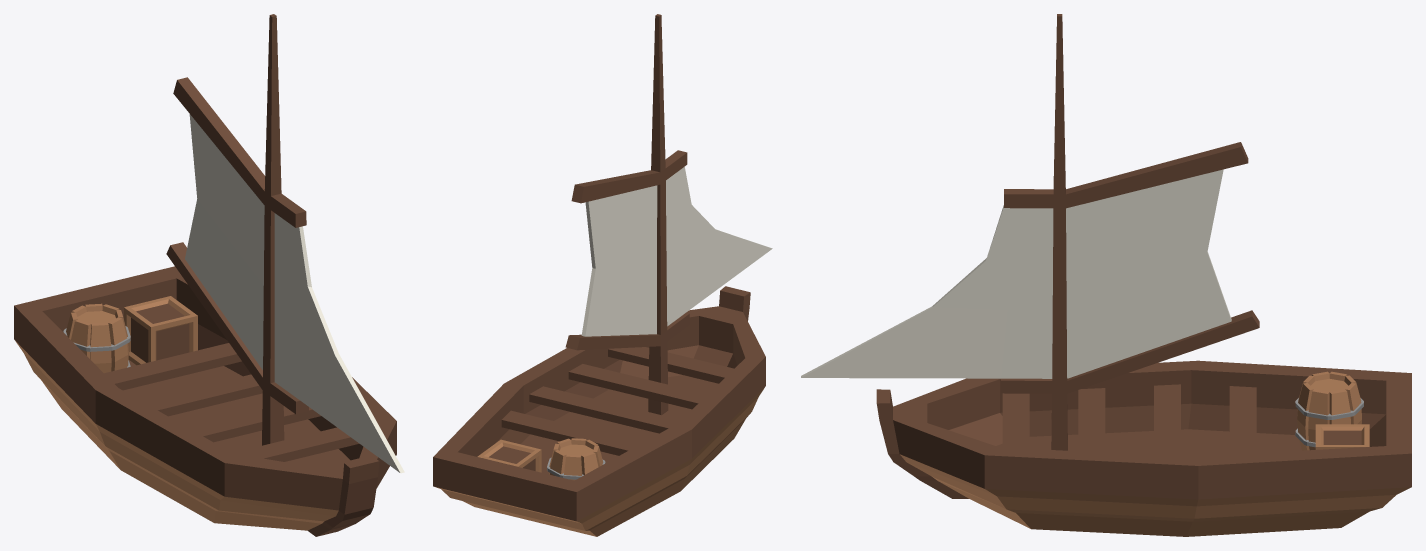
Rendered from cairo-felucca.glb.
3 views of the same model, side by side, from view 1: azimuth 30°, elevation 25°; view 2: azimuth 150°, elevation 25°; view 3: azimuth 270°, elevation 25° (orthographic). The views are drawn at different scales.
Visible parts, largest first — view 1: Boat, Sail; view 2: Boat, Sail; view 3: Boat, Sail.
Part boxes in pixels (x1,y1,x2,y2): Boat: (14, 266, 396, 536); Sail: (166, 14, 404, 473); Boat: (433, 286, 765, 536); Sail: (565, 14, 772, 415); Boat: (876, 360, 1411, 536); Sail: (801, 14, 1259, 450).
Size of the model in its own units: 0.4032 by 0.8547 by 0.989.
